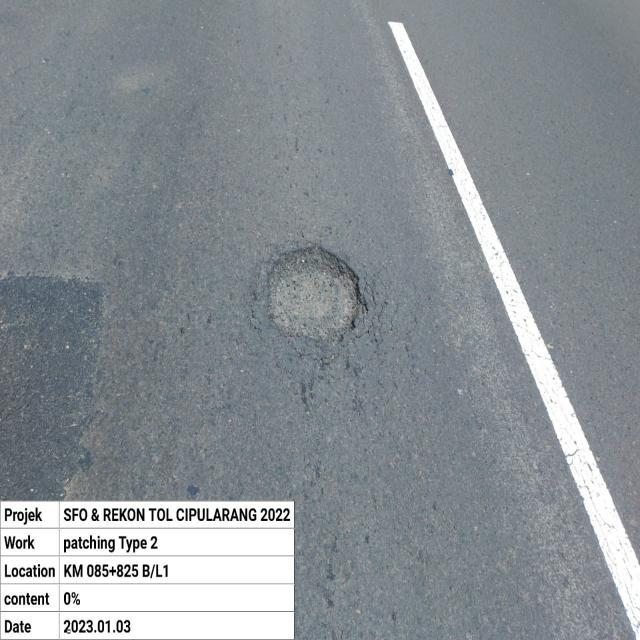Buraco: (261, 241, 372, 347)
